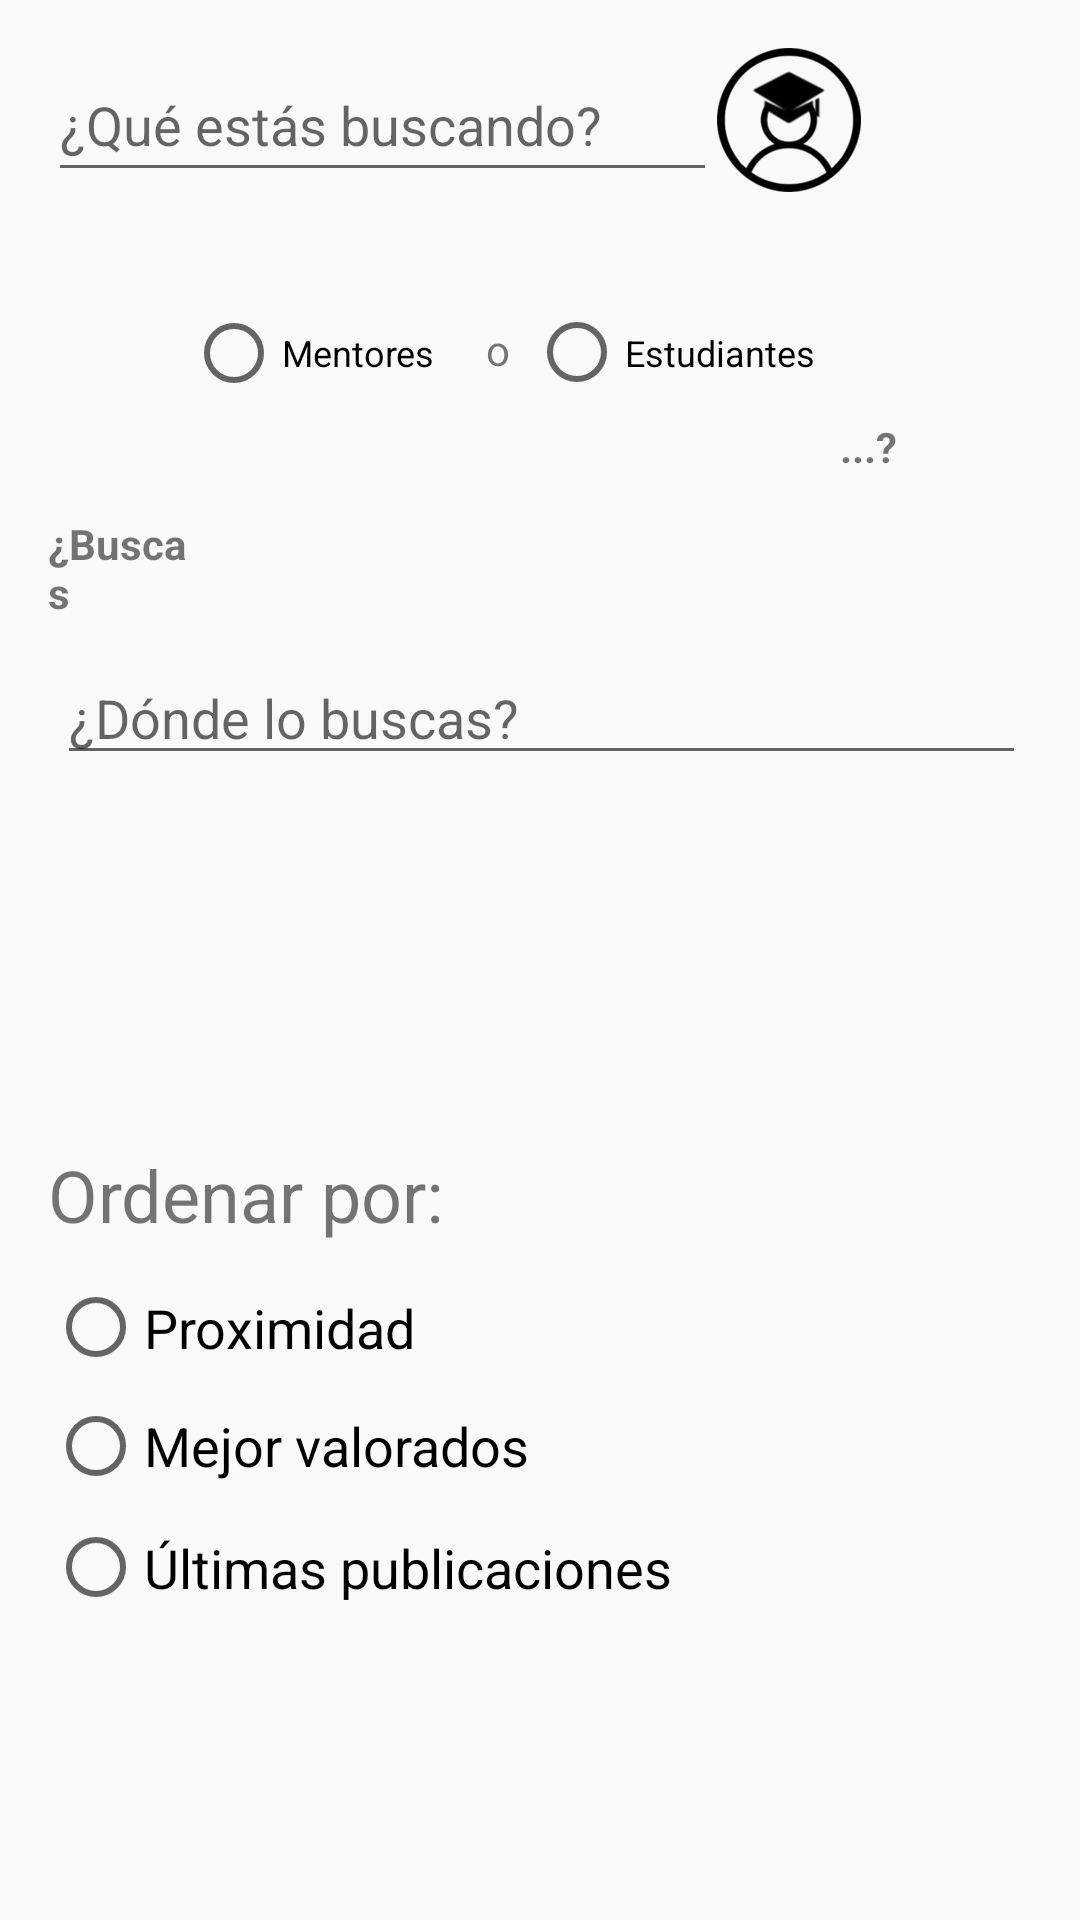

Point at icon controls on the screen. Image size 1080 × 1920, points as (x,y).
perfil: (789,120)
